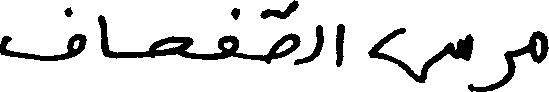X: (0, 2, 83, 65), (371, 23, 426, 87), (271, 0, 297, 69), (474, 46, 513, 91), (450, 29, 472, 91), (151, 31, 190, 62), (219, 3, 236, 63), (531, 26, 548, 68), (99, 10, 107, 61), (313, 20, 322, 64), (337, 19, 344, 71)
